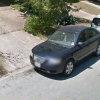Car: (27, 23, 99, 77)
